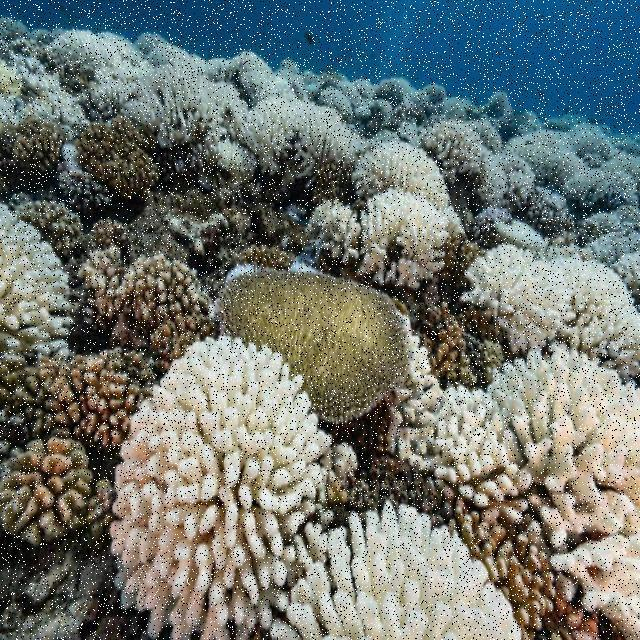Bleached: (105, 329, 342, 637), (407, 335, 640, 627), (314, 499, 525, 640), (472, 238, 640, 370), (1, 207, 85, 367), (136, 50, 244, 160)
Healthy: (228, 257, 419, 427)
